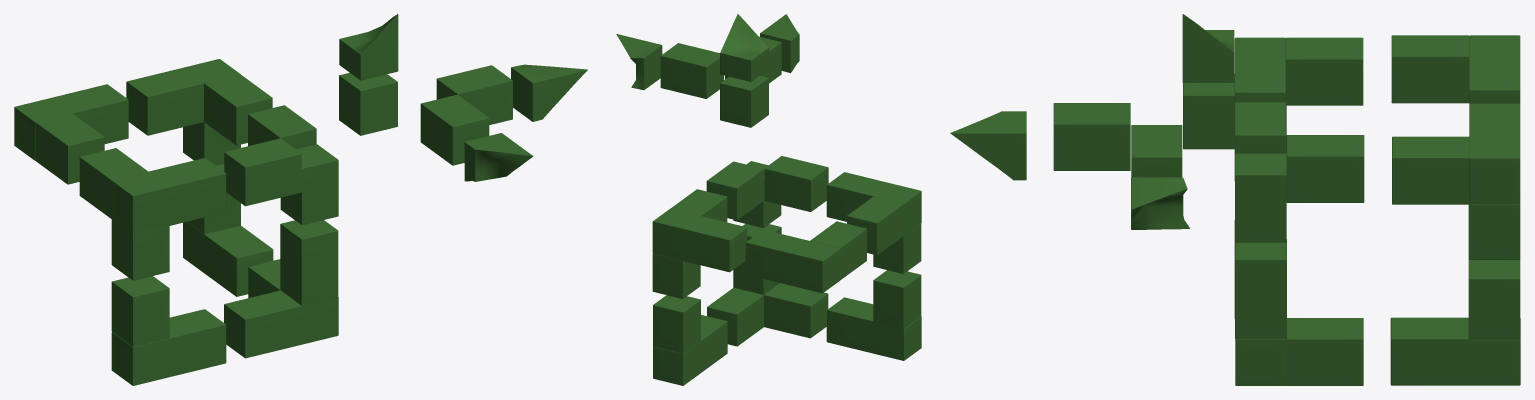
The model's file is Blocks.fbx.
The picture shows the model from 3 angles, left to right: view 1: azimuth 30°, elevation 25°; view 2: azimuth 150°, elevation 25°; view 3: azimuth 270°, elevation 25°; orthographic projection. The views are drawn at different scales.
Visible parts, largest first — view 1: PPuzzleBlocks; view 2: PPuzzleBlocks; view 3: PPuzzleBlocks.
Part boxes in pixels (x1,y1,x2,y2): PPuzzleBlocks: (14,14,587,385); PPuzzleBlocks: (616,14,921,385); PPuzzleBlocks: (950,14,1520,385).
Bounding box in the file's own units: 2197 × 1675 × 2196.
